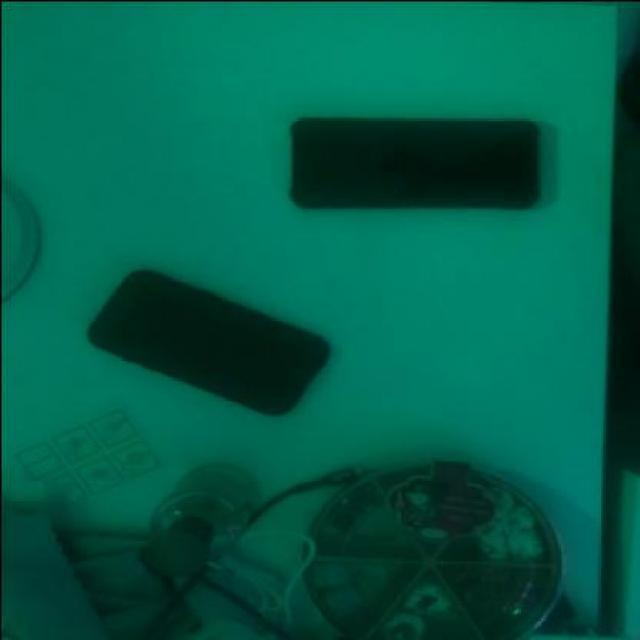phone: (83, 262, 331, 413), (287, 115, 543, 212)
